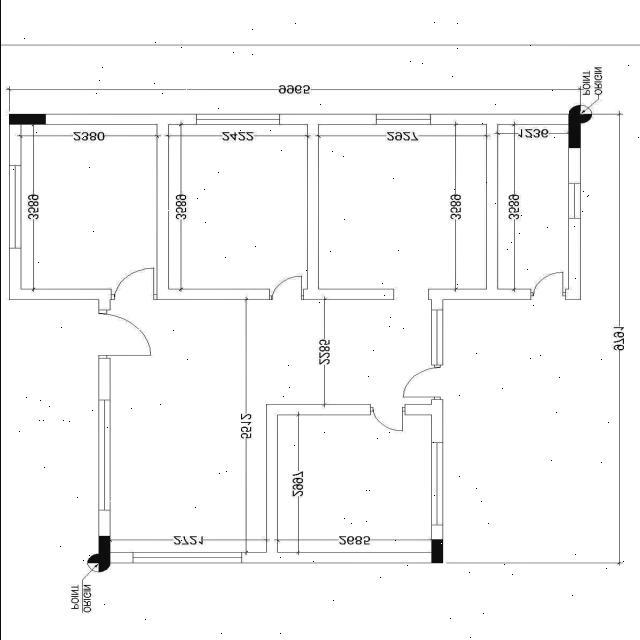Column: (568, 114, 580, 148), (8, 114, 45, 124), (98, 536, 110, 563), (430, 540, 442, 564)
Door: (98, 310, 152, 358), (110, 267, 156, 300), (402, 366, 439, 400), (529, 272, 565, 300), (368, 407, 404, 432), (268, 276, 302, 300)
Window: (98, 400, 110, 510), (132, 552, 242, 563), (430, 442, 442, 526), (8, 166, 20, 248), (195, 114, 279, 125), (430, 310, 442, 366), (375, 114, 430, 125), (568, 184, 580, 218)
